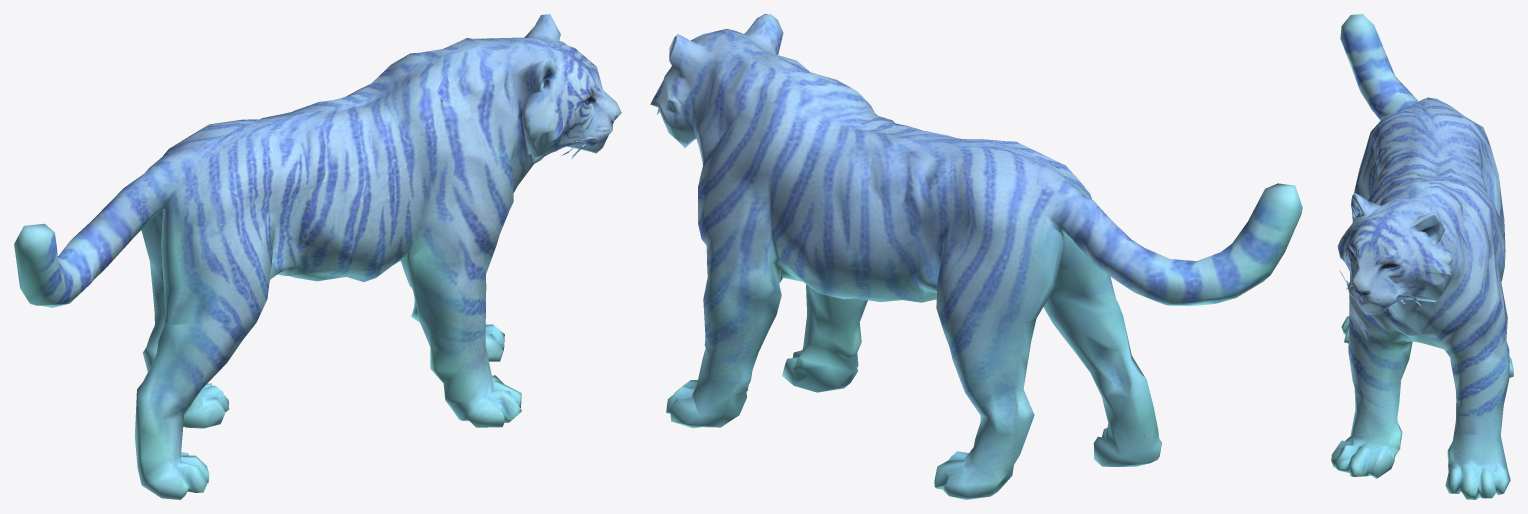
Rendered from RIMESTRIPE-lo.glb.
The picture shows the model from 3 angles, left to right: view 1: azimuth 30°, elevation 25°; view 2: azimuth 150°, elevation 25°; view 3: azimuth 270°, elevation 25°; orthographic projection. The views are drawn at different scales.
Visible parts, largest first — view 1: tripo_node_79fc5d87-c6a6-4b65-865e-8521b98fdf7d; view 2: tripo_node_79fc5d87-c6a6-4b65-865e-8521b98fdf7d; view 3: tripo_node_79fc5d87-c6a6-4b65-865e-8521b98fdf7d.
Boxes of the visible parts, left/top/right/bottom form: tripo_node_79fc5d87-c6a6-4b65-865e-8521b98fdf7d: left=14, top=14, right=621, bottom=499; tripo_node_79fc5d87-c6a6-4b65-865e-8521b98fdf7d: left=650, top=14, right=1302, bottom=499; tripo_node_79fc5d87-c6a6-4b65-865e-8521b98fdf7d: left=1331, top=14, right=1513, bottom=499.
Size of the model in its own units: 1.81 by 0.9967 by 0.5478.
1 material, 1 textured.
